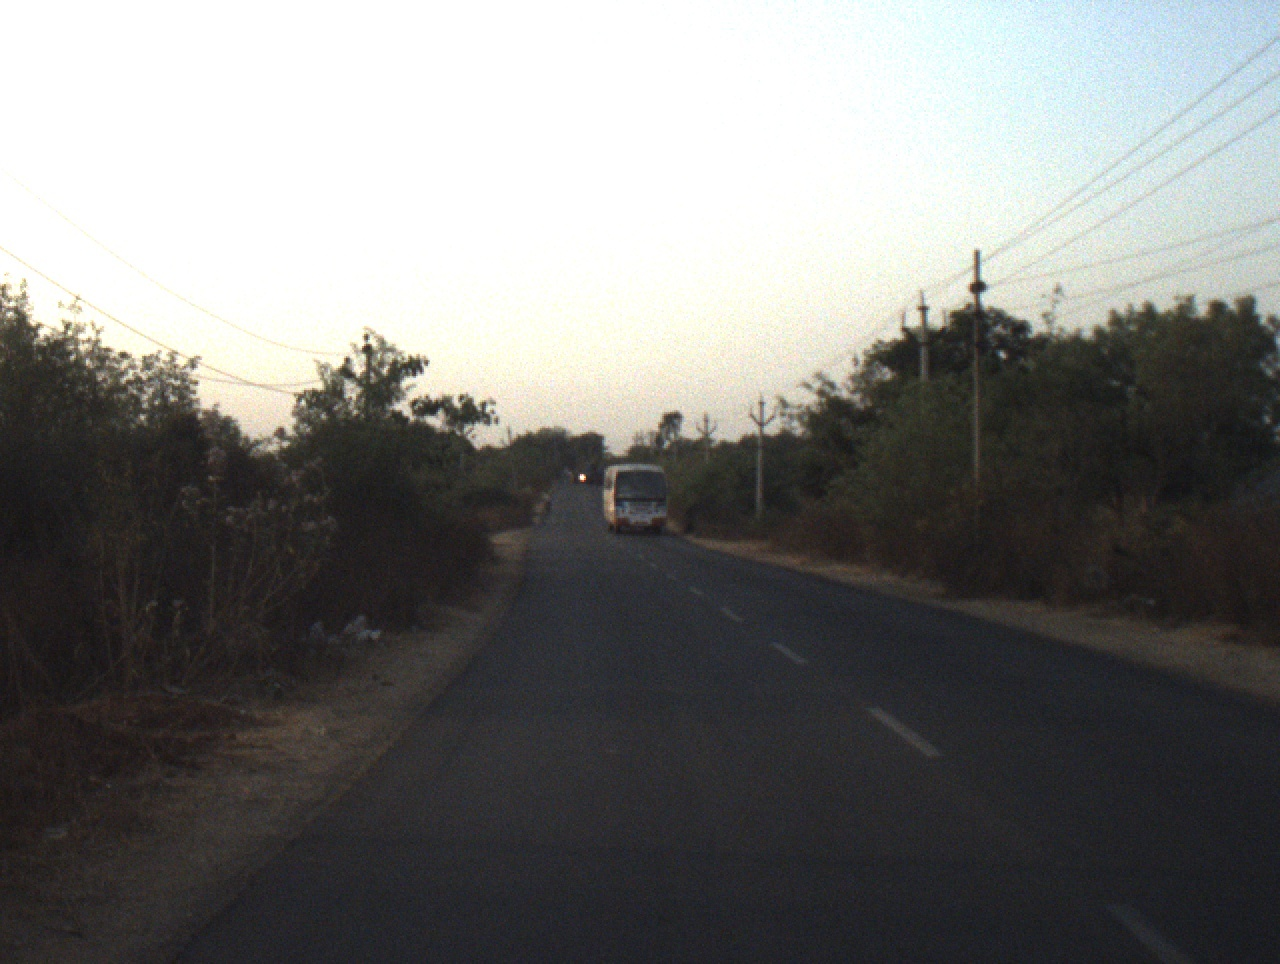bicycle: (546, 501, 553, 513)
bus: (596, 461, 672, 538)
rider: (543, 490, 554, 510)
vehicle fallback: (576, 472, 590, 486)
